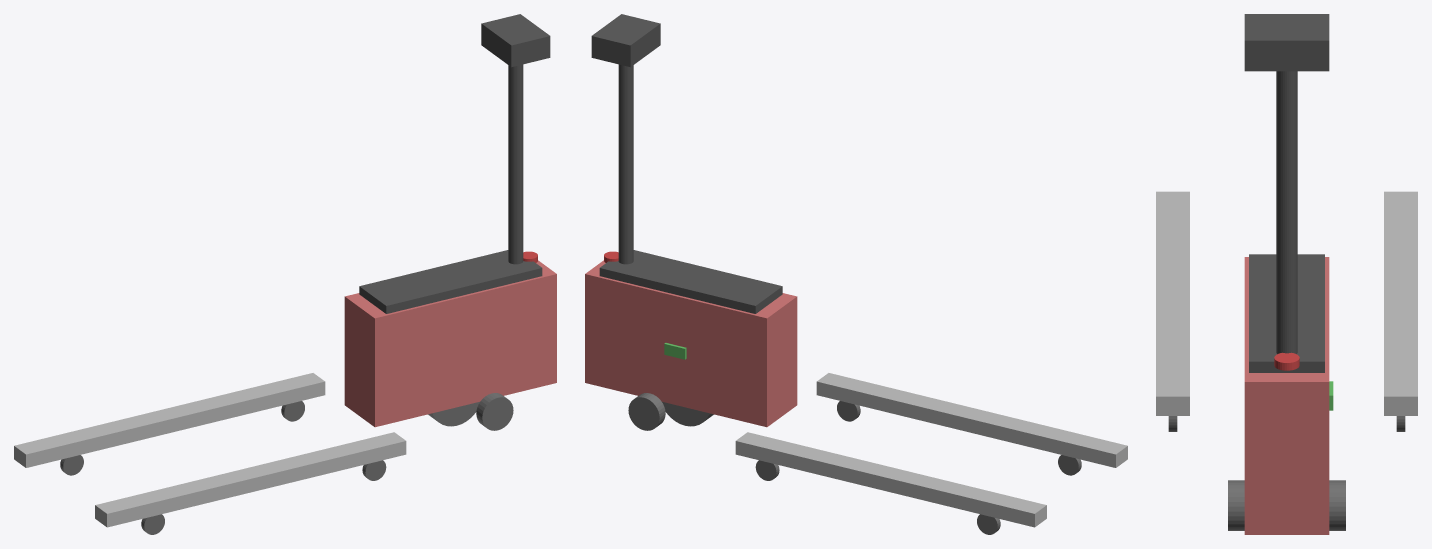
The model's file is forklift-pallet-truck-electric.glb.
3 renders of one model, left to right at view 1: azimuth 30°, elevation 25°; view 2: azimuth 150°, elevation 25°; view 3: azimuth 270°, elevation 25°, orthographic. The views are drawn at different scales.
Parts seen in each view (by area): view 1: body, fork_0, fork_1, battery_cover, handle_stem, handle_head, aux_wheel_0, drive_wheel; view 2: body, fork_0, fork_1, battery_cover, handle_stem, handle_head, aux_wheel_1, drive_wheel; view 3: body, fork_0, fork_1, battery_cover, handle_stem, handle_head, aux_wheel_0, aux_wheel_1, e_stop.
Boxes of the visible parts, left/top/right/bottom form: body: left=344, top=260, right=556, bottom=427; fork_0: left=95, top=432, right=406, bottom=527; fork_1: left=14, top=373, right=325, bottom=467; battery_cover: left=359, top=250, right=542, bottom=313; handle_stem: left=508, top=64, right=523, bottom=264; handle_head: left=481, top=14, right=550, bottom=67; aux_wheel_0: left=476, top=393, right=513, bottom=430; drive_wheel: left=428, top=402, right=479, bottom=426; body: left=585, top=260, right=797, bottom=427; fork_0: left=816, top=373, right=1127, bottom=467; fork_1: left=735, top=432, right=1046, bottom=527; battery_cover: left=599, top=250, right=782, bottom=313; handle_stem: left=618, top=64, right=633, bottom=264; handle_head: left=591, top=14, right=660, bottom=67; aux_wheel_1: left=628, top=393, right=665, bottom=430; drive_wheel: left=662, top=402, right=713, bottom=426; body: left=1244, top=257, right=1329, bottom=534; fork_0: left=1156, top=191, right=1189, bottom=415; fork_1: left=1384, top=191, right=1417, bottom=415; battery_cover: left=1249, top=254, right=1324, bottom=372; handle_stem: left=1276, top=71, right=1297, bottom=354; handle_head: left=1244, top=14, right=1329, bottom=71; aux_wheel_0: left=1228, top=480, right=1244, bottom=530; aux_wheel_1: left=1329, top=480, right=1345, bottom=530; e_stop: left=1274, top=352, right=1299, bottom=370.
Size of the model in its own units: 1850 by 1380 by 620.
